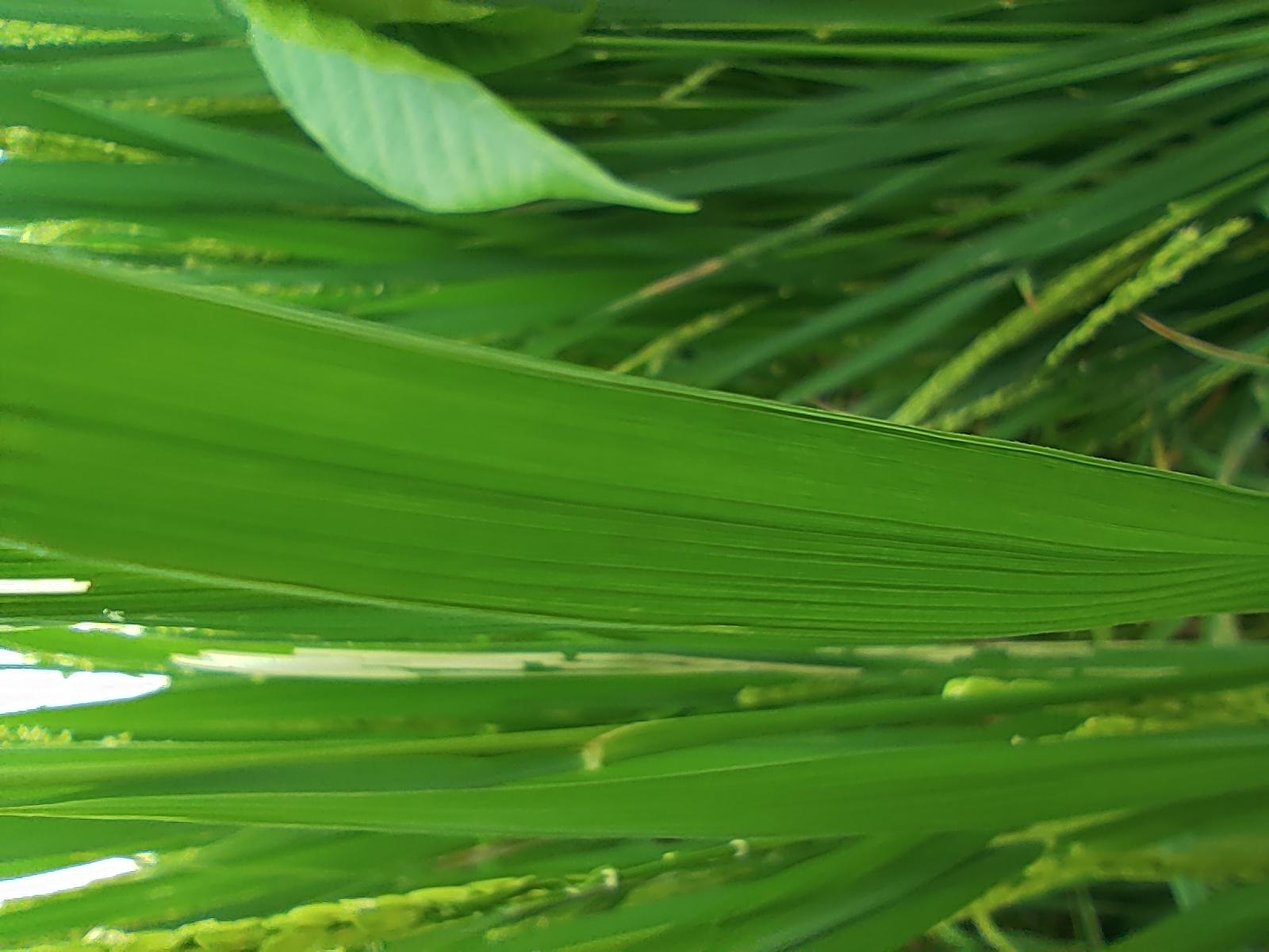Healthy: (415, 0, 929, 951)
